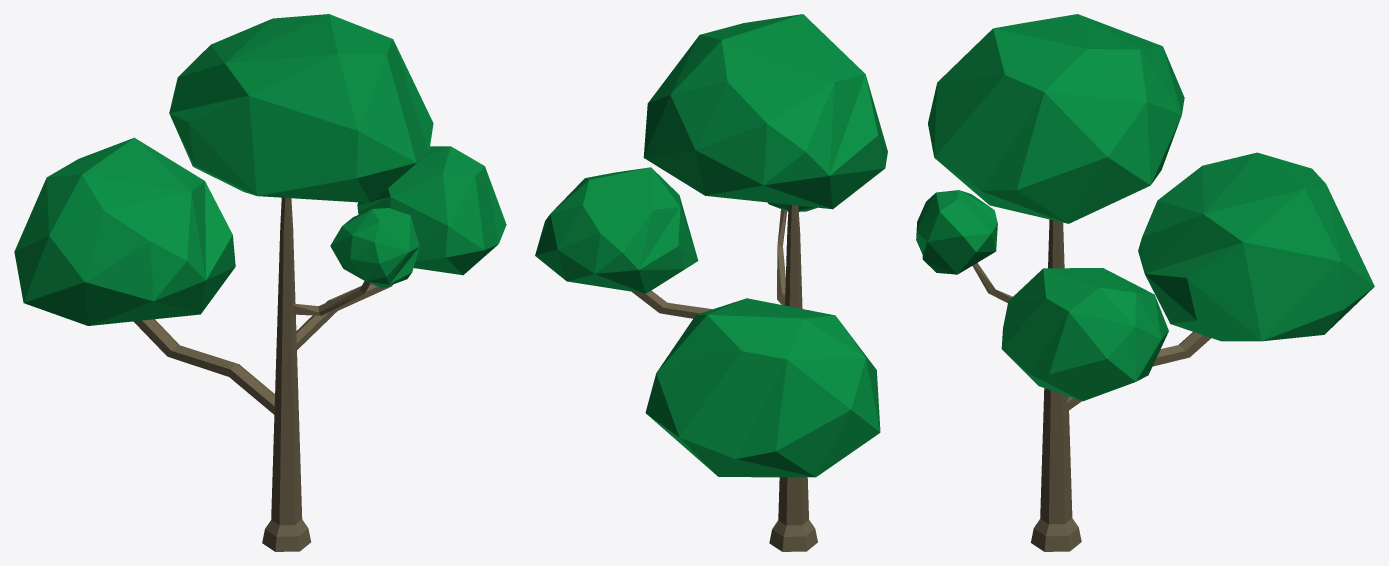
File: SM_Factory_Tree_01.glb
3 renders of one model, left to right at view 1: azimuth 30°, elevation 25°; view 2: azimuth 150°, elevation 25°; view 3: azimuth 270°, elevation 25°, orthographic. The views are drawn at different scales.
Parts seen in each view (by area): view 1: SM_Factory_Tree_01; view 2: SM_Factory_Tree_01; view 3: SM_Factory_Tree_01.
Boxes of the visible parts, x1,y1,x2,y2 form: SM_Factory_Tree_01: (14, 14, 506, 551); SM_Factory_Tree_01: (535, 14, 887, 551); SM_Factory_Tree_01: (916, 14, 1374, 551).
Size of the model in its own units: 4.71 by 5.67 by 4.49.
1 material, 1 textured.
